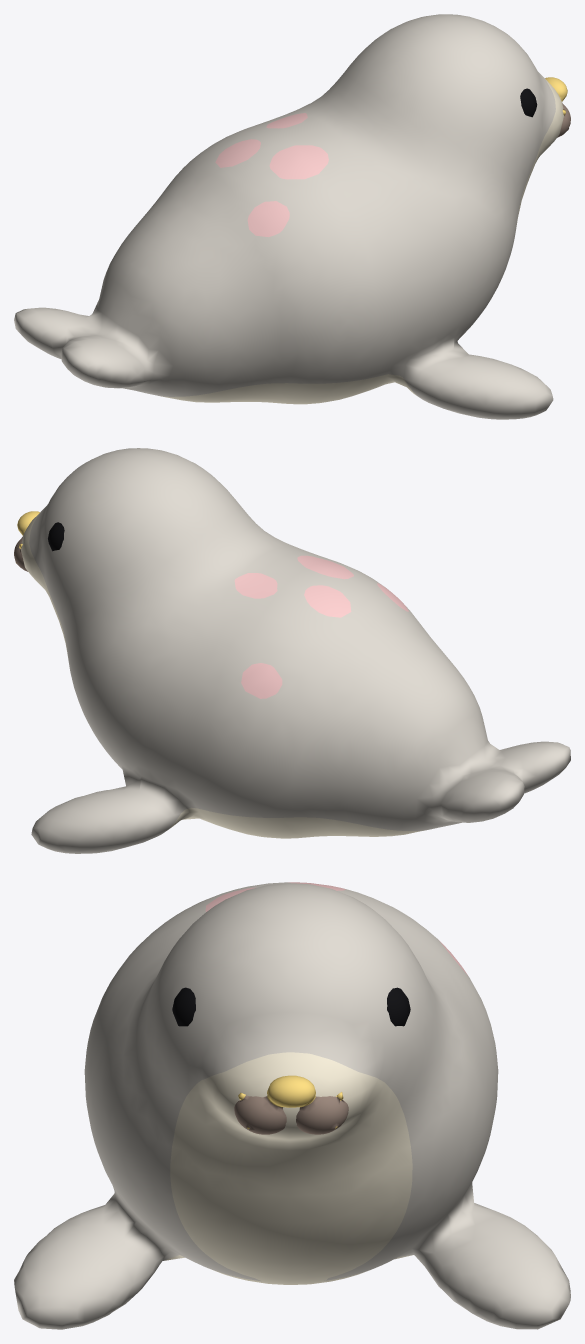
File: seal_baby.glb
3 renders of one model, top to bottom at view 1: azimuth 30°, elevation 25°; view 2: azimuth 150°, elevation 25°; view 3: azimuth 270°, elevation 25°, orthographic. The views are drawn at different scales.
Visible parts, largest first — view 1: body; view 2: body; view 3: body, beak, eye.
Part boxes in pixels (x1,y1,x2,y2): body: [14, 14, 563, 419]; body: [21, 448, 570, 853]; body: [14, 882, 570, 1329]; beak: [234, 1075, 348, 1134]; eye: [172, 987, 410, 1026].
Bounding box in the file's own units: 2.32 × 1.38 × 1.6.
